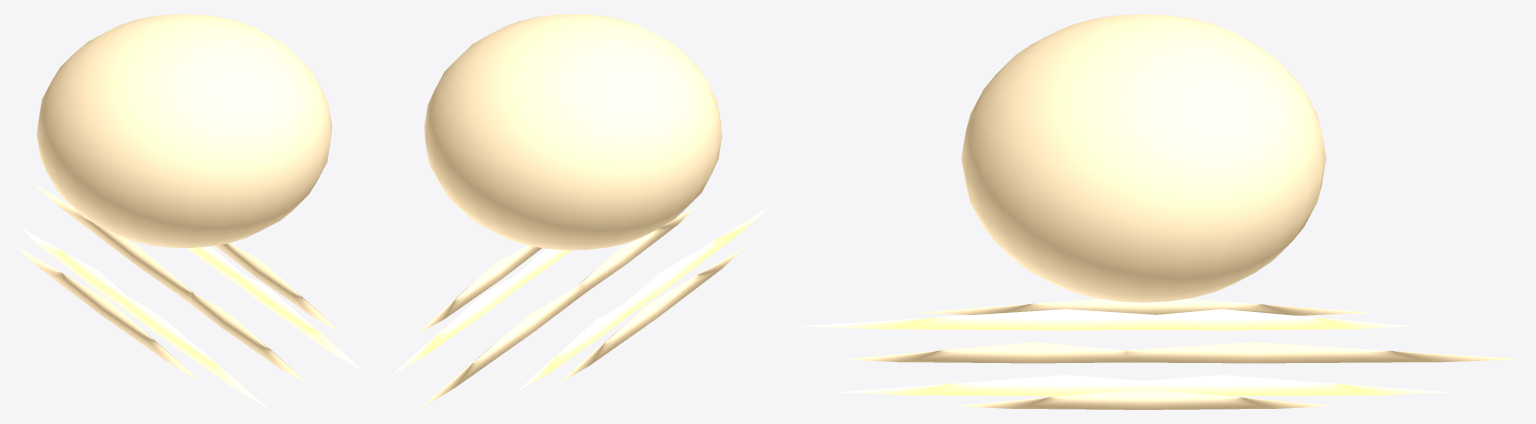
Rendered from candle-comb.glb.
The picture shows the model from 3 angles, left to right: view 1: azimuth 30°, elevation 25°; view 2: azimuth 150°, elevation 25°; view 3: azimuth 270°, elevation 25°; orthographic projection. The views are drawn at different scales.
Visible parts, largest first — view 1: bell, tentacle-4, tentacle-5, tentacle-2, tentacle-7, tentacle-6, tentacle-0, tentacle-3, tentacle-1; view 2: bell, tentacle-4, tentacle-2, tentacle-5, tentacle-1, tentacle-0, tentacle-6, tentacle-3, tentacle-7; view 3: bell, tentacle-2, tentacle-5, tentacle-0, tentacle-7, tentacle-1, tentacle-6, tentacle-4, tentacle-3.
Boxes of the visible parts, x1=… form: bell: x1=37, y1=14, x2=331, y2=247; tentacle-4: x1=15, y1=245, x2=198, y2=380; tentacle-5: x1=119, y1=294, x2=268, y2=409; tentacle-2: x1=32, y1=182, x2=193, y2=300; tentacle-7: x1=234, y1=271, x2=363, y2=371; tentacle-6: x1=186, y1=292, x2=305, y2=382; tentacle-0: x1=215, y1=243, x2=337, y2=330; tentacle-3: x1=21, y1=228, x2=125, y2=304; tentacle-1: x1=187, y1=246, x2=239, y2=281; bell: x1=424, y1=14, x2=722, y2=250; tentacle-4: x1=558, y1=247, x2=744, y2=383; tentacle-2: x1=419, y1=284, x2=585, y2=409; tentacle-5: x1=623, y1=207, x2=768, y2=315; tentacle-1: x1=393, y1=274, x2=523, y2=374; tentacle-0: x1=417, y1=245, x2=541, y2=334; tentacle-6: x1=579, y1=206, x2=696, y2=292; tentacle-3: x1=518, y1=305, x2=628, y2=390; tentacle-7: x1=517, y1=248, x2=570, y2=284; bell: x1=961, y1=14, x2=1326, y2=302; tentacle-2: x1=1125, y1=342, x2=1518, y2=363; tentacle-5: x1=801, y1=309, x2=1156, y2=330; tentacle-0: x1=954, y1=388, x2=1332, y2=409; tentacle-7: x1=838, y1=375, x2=1143, y2=396; tentacle-1: x1=1144, y1=375, x2=1448, y2=396; tentacle-6: x1=844, y1=342, x2=1125, y2=363; tentacle-4: x1=917, y1=298, x2=1369, y2=315; tentacle-3: x1=1157, y1=309, x2=1410, y2=330.
Size of the model in its own units: 1.72 by 1.68 by 3.41.
